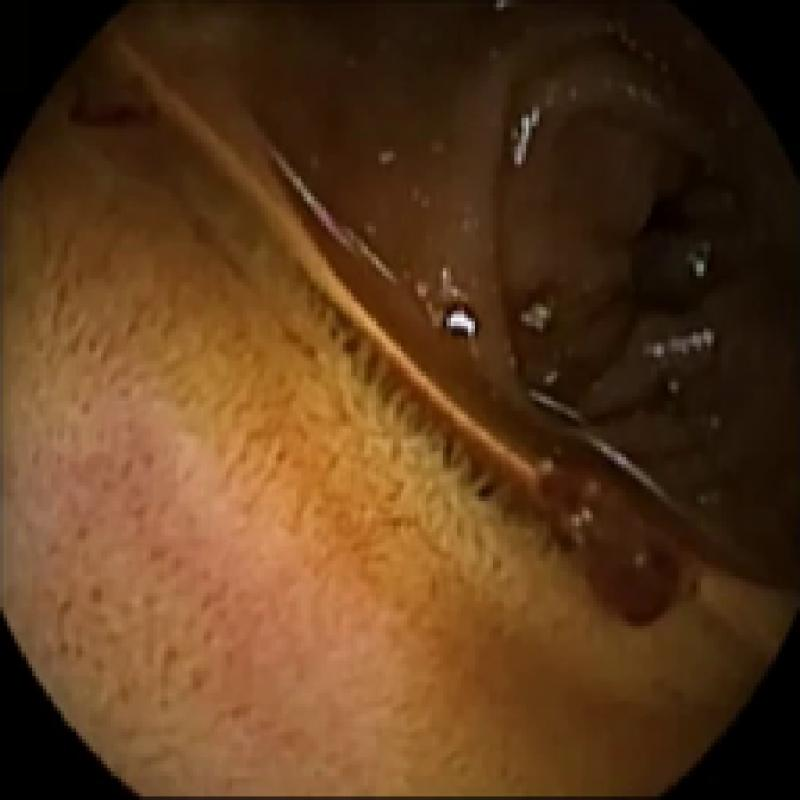bleeding: (532, 443, 693, 625)
